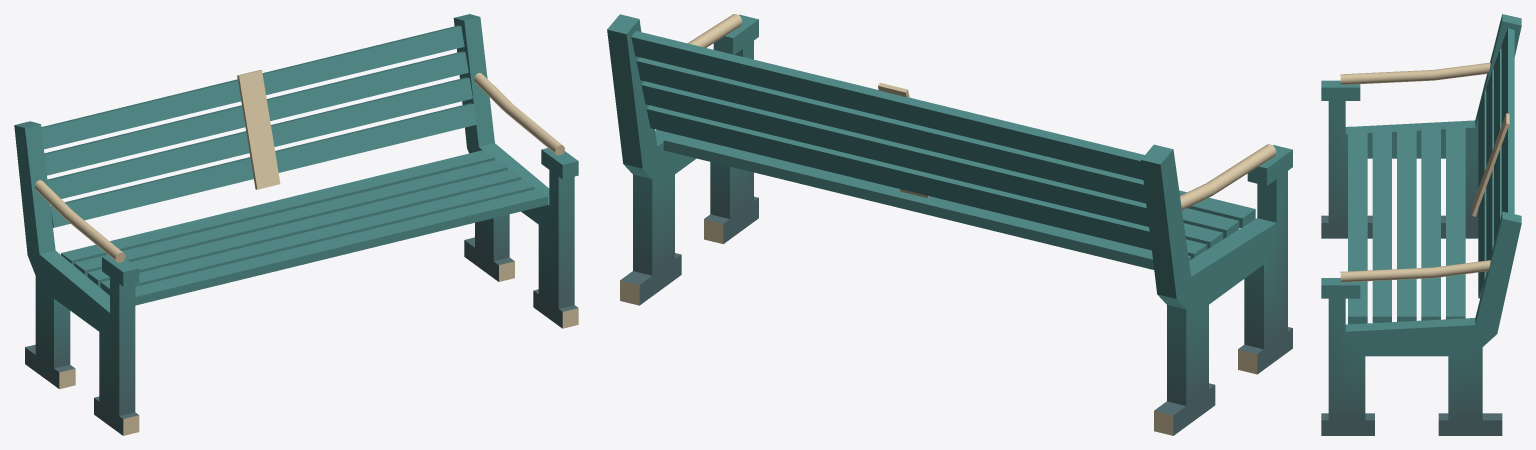
File: KC32__AD_Ext_Bench.glb
3 renders of one model, left to right at view 1: azimuth 30°, elevation 25°; view 2: azimuth 150°, elevation 25°; view 3: azimuth 270°, elevation 25°, orthographic. The views are drawn at different scales.
Visible parts, largest first — view 1: KC32_CORPS__AD_Ext_Bench, KC32_BRONZE__AD_Ext_Bench; view 2: KC32_CORPS__AD_Ext_Bench, KC32_BRONZE__AD_Ext_Bench; view 3: KC32_CORPS__AD_Ext_Bench, KC32_BRONZE__AD_Ext_Bench.
Part boxes in pixels (x1,y1,x2,y2): KC32_CORPS__AD_Ext_Bench: [14, 14, 578, 435]; KC32_BRONZE__AD_Ext_Bench: [35, 70, 578, 435]; KC32_CORPS__AD_Ext_Bench: [607, 14, 1292, 435]; KC32_BRONZE__AD_Ext_Bench: [620, 14, 1276, 435]; KC32_CORPS__AD_Ext_Bench: [1321, 14, 1521, 435]; KC32_BRONZE__AD_Ext_Bench: [1340, 62, 1509, 282].
Bounding box in the file's own units: 1.98 × 0.98 × 0.82.
